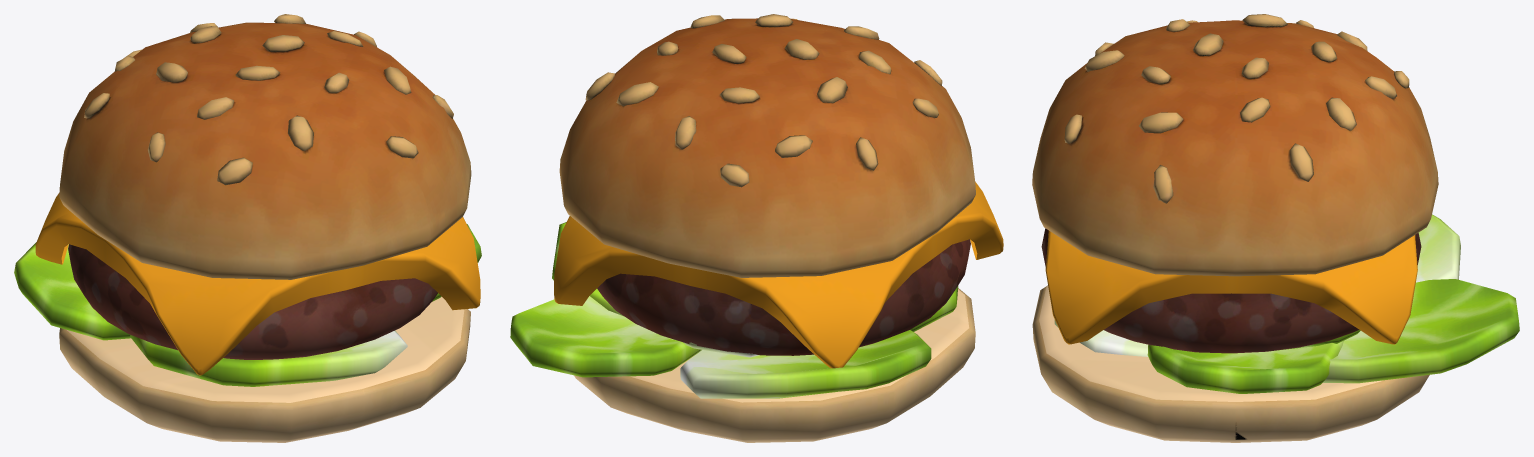
File: m_recipe_cheese_lettuce_burger_01.fbx
3 renders of one model, left to right at view 1: azimuth 30°, elevation 25°; view 2: azimuth 150°, elevation 25°; view 3: azimuth 270°, elevation 25°, orthographic.
Parts seen in each view (by area): view 1: m_recipe_cheese_lettuce_burger_01_1, m_recipe_cheese_lettuce_burger_01_2, m_recipe_cheese_lettuce_burger_01_0, m_recipe_cheese_lettuce_burger_01_3; view 2: m_recipe_cheese_lettuce_burger_01_1, m_recipe_cheese_lettuce_burger_01_3, m_recipe_cheese_lettuce_burger_01_2, m_recipe_cheese_lettuce_burger_01_0; view 3: m_recipe_cheese_lettuce_burger_01_1, m_recipe_cheese_lettuce_burger_01_3, m_recipe_cheese_lettuce_burger_01_2, m_recipe_cheese_lettuce_burger_01_0.
Part boxes in pixels (x1,y1,x2,y2): m_recipe_cheese_lettuce_burger_01_1: (59,14,471,442); m_recipe_cheese_lettuce_burger_01_2: (35,193,480,375); m_recipe_cheese_lettuce_burger_01_0: (68,244,437,359); m_recipe_cheese_lettuce_burger_01_3: (14,224,481,386); m_recipe_cheese_lettuce_burger_01_1: (559,14,975,442); m_recipe_cheese_lettuce_burger_01_3: (510,222,958,398); m_recipe_cheese_lettuce_burger_01_2: (554,182,1003,368); m_recipe_cheese_lettuce_burger_01_0: (597,239,970,355); m_recipe_cheese_lettuce_burger_01_1: (1032,14,1438,442); m_recipe_cheese_lettuce_burger_01_3: (1054,214,1519,393); m_recipe_cheese_lettuce_burger_01_2: (1045,230,1417,344); m_recipe_cheese_lettuce_burger_01_0: (1041,228,1421,353).
Size of the model in its own units: 0.7104 by 0.549 by 0.749.
